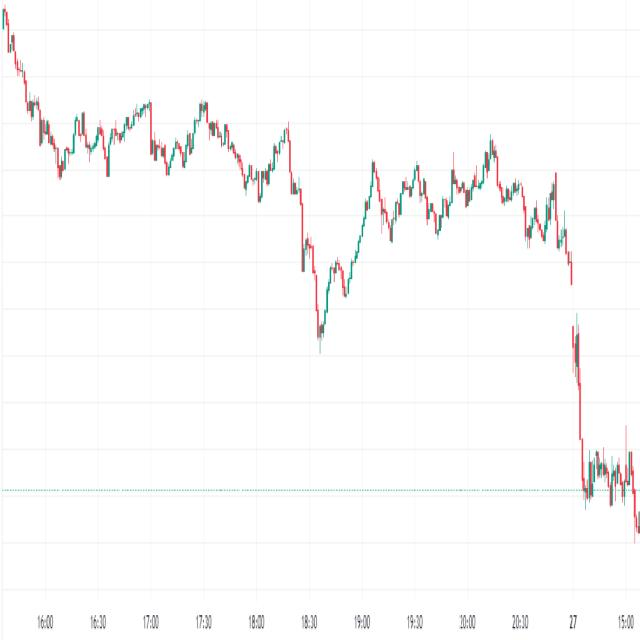Inverse-Head-Shoulders: (292, 169, 364, 355)
